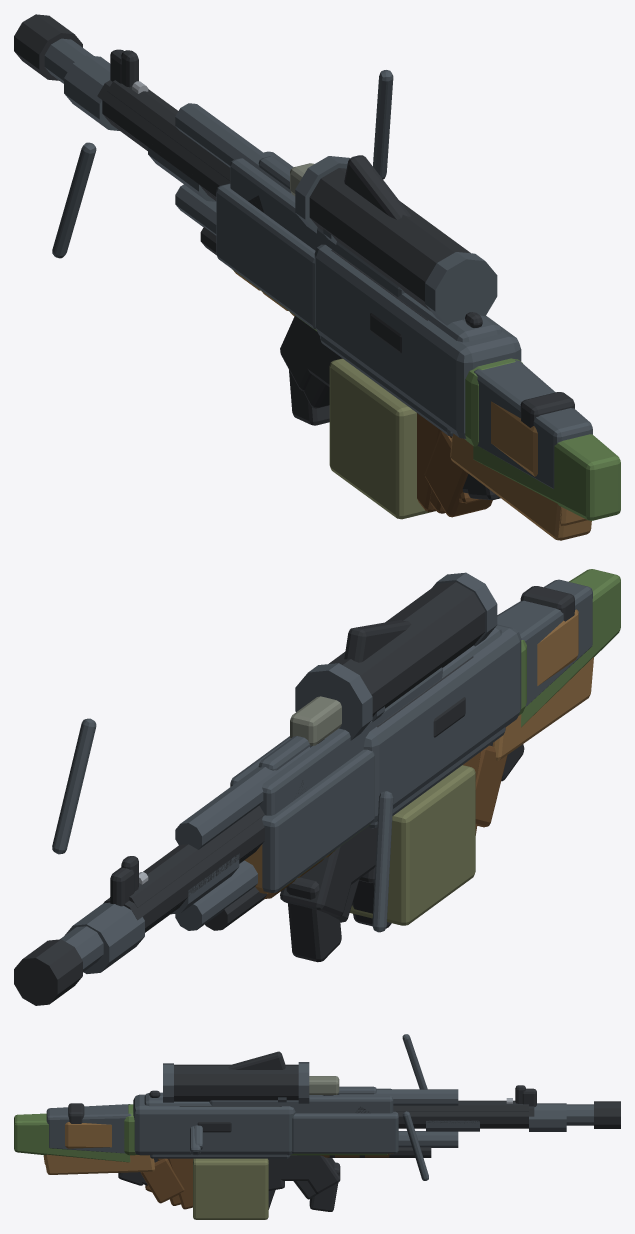
Rendered from weapons.glb.
The picture shows the model from 3 angles, top to bottom: view 1: azimuth 30°, elevation 25°; view 2: azimuth 150°, elevation 25°; view 3: azimuth 270°, elevation 25°; orthographic projection. The views are drawn at different scales.
Visible parts, largest first — view 1: cm_receiver.002, boxmag, cm_scope, cm_hguard.001, cm_stock.002, cm_stock.003, lensR, cm_topmetal, cm_stock.001, barrel.004, gastube, barrel.005 (+18 smaller); view 2: cm_receiver.002, boxmag, cm_hguard.001, cm_scope, cm_topmetal, cm_stock.003, gastube, barrel.004, cm_stock.002, muzz, lensF, fgrip (+23 smaller); view 3: cm_receiver.002, boxmag, cm_hguard.001, cm_scope, cm_topmetal, cm_stock.003, cm_stock.002, cm_stock.001, barrel.004, gastube, barrel.005, cm_stockfull (+25 smaller).
Part boxes in pixels (left/top/right/bottom): cm_receiver.002: left=314, top=244, right=521, bottom=438; boxmag: left=329, top=358, right=435, bottom=519; cm_scope: left=309, top=168, right=470, bottom=310; cm_hguard.001: left=216, top=183, right=316, bottom=329; cm_stock.002: left=473, top=434, right=620, bottom=520; cm_stock.003: left=474, top=360, right=592, bottom=488; lensR: left=425, top=252, right=497, bottom=325; cm_topmetal: left=230, top=151, right=404, bottom=296; cm_stock.001: left=450, top=433, right=591, bottom=540; barrel.004: left=97, top=80, right=230, bottom=197; gastube: left=175, top=103, right=291, bottom=193; barrel.005: left=107, top=80, right=230, bottom=180; cm_receiver.002: left=363, top=624, right=521, bottom=822; boxmag: left=349, top=765, right=475, bottom=925; cm_hguard.001: left=262, top=749, right=374, bottom=892; cm_scope: left=329, top=582, right=485, bottom=716; cm_topmetal: left=230, top=667, right=442, bottom=815; cm_stock.003: left=497, top=579, right=592, bottom=706; gastube: left=175, top=747, right=310, bottom=849; barrel.004: left=103, top=815, right=264, bottom=929; cm_stock.002: left=521, top=569, right=620, bottom=727; muzz: left=14, top=939, right=82, bottom=1005; lensF: left=295, top=663, right=372, bottom=740; fgrip: left=286, top=877, right=341, bottom=962; cm_receiver.002: left=133, top=1094, right=295, bottom=1155; boxmag: left=193, top=1158, right=268, bottom=1219; cm_hguard.001: left=292, top=1111, right=398, bottom=1153; cm_scope: left=174, top=1064, right=298, bottom=1101; cm_topmetal: left=209, top=1088, right=393, bottom=1113; cm_stock.003: left=46, top=1104, right=131, bottom=1153; cm_stock.002: left=14, top=1113, right=130, bottom=1162; cm_stock.001: left=44, top=1154, right=154, bottom=1174; barrel.004: left=396, top=1106, right=534, bottom=1125; gastube: left=339, top=1089, right=458, bottom=1105; barrel.005: left=393, top=1100, right=528, bottom=1111; cm_stockfull: left=65, top=1122, right=393, bottom=1153.
Bounding box in the file's own units: 0.3765 × 0.3322 × 1.12.
